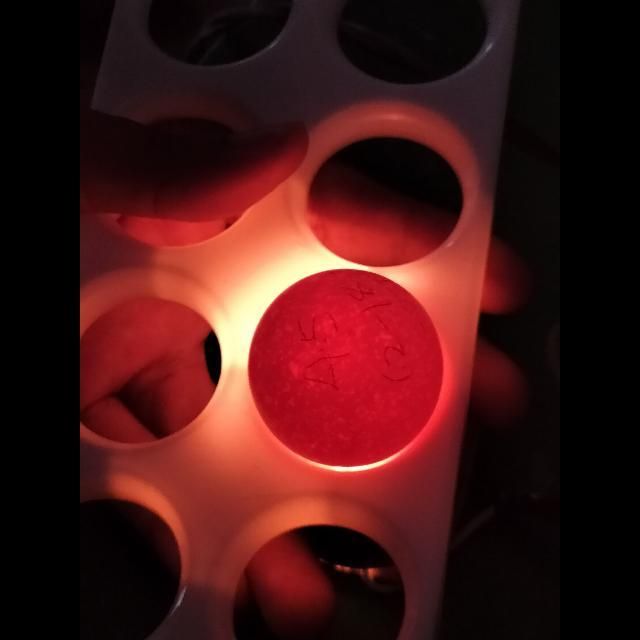Infertile: (254, 272, 436, 460)
